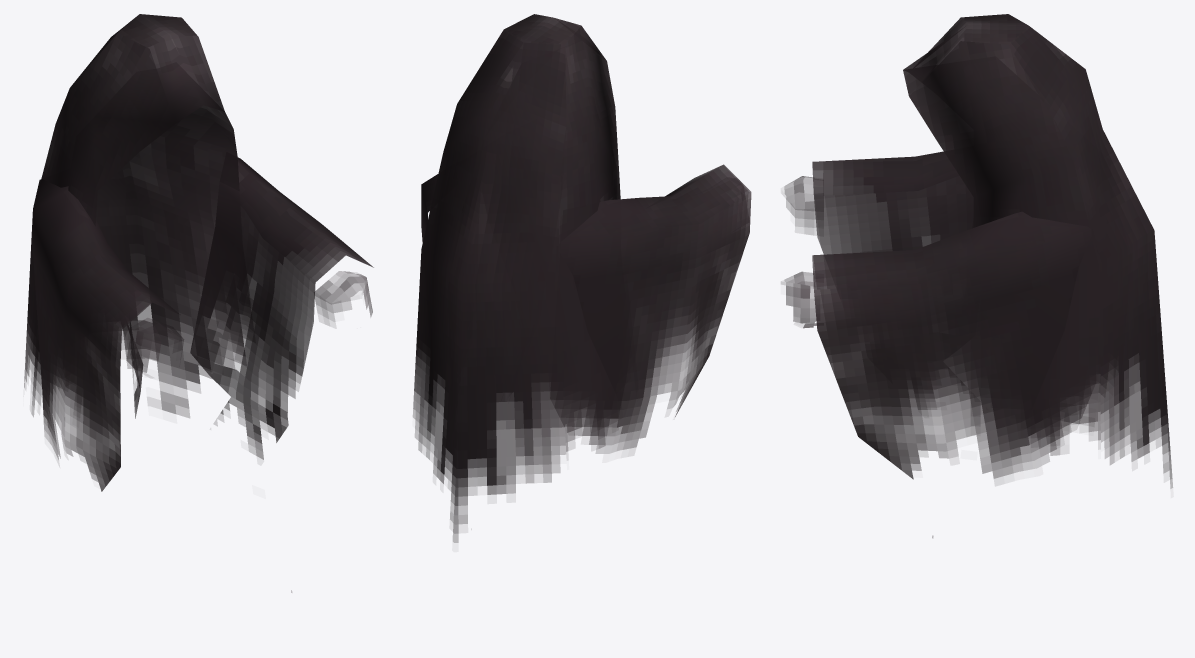
The model's file is ghost.glb.
3 views of the same model, side by side, from view 1: azimuth 30°, elevation 25°; view 2: azimuth 150°, elevation 25°; view 3: azimuth 270°, elevation 25° (orthographic). The views are drawn at different scales.
Parts seen in each view (by area): view 1: Cylinder.001; view 2: Cylinder.001; view 3: Cylinder.001.
Boxes of the visible parts, bbox=[...] form: Cylinder.001: bbox=[24, 14, 373, 592]; Cylinder.001: bbox=[413, 14, 751, 542]; Cylinder.001: bbox=[781, 14, 1172, 537].
Bounding box in the file's own units: 0.4435 × 0.9566 × 0.6148.
Materials: 1 (1 with a texture image).
